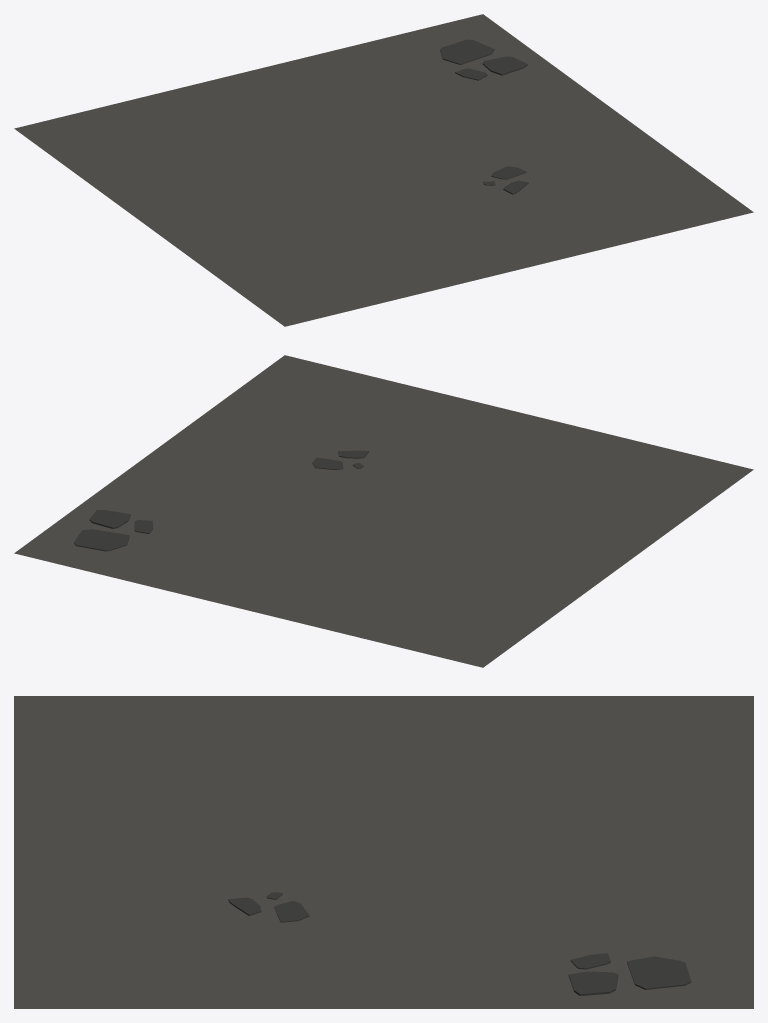
File: floor1.fbx
3 renders of one model, top to bottom at view 1: azimuth 30°, elevation 25°; view 2: azimuth 150°, elevation 25°; view 3: azimuth 270°, elevation 25°, orthographic. The views are drawn at different scales.
Visible parts, largest first — view 1: floor.010; view 2: floor.010; view 3: floor.010.
Part boxes in pixels (x1,y1,x2,y2): floor.010: [14, 14, 753, 326]; floor.010: [14, 355, 753, 667]; floor.010: [14, 696, 753, 1008].
Bounding box in the file's own units: 4 × 4 × 0.027.
Materials: 1 (1 with a texture image).
